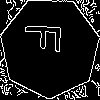F: (24, 22, 70, 54)
